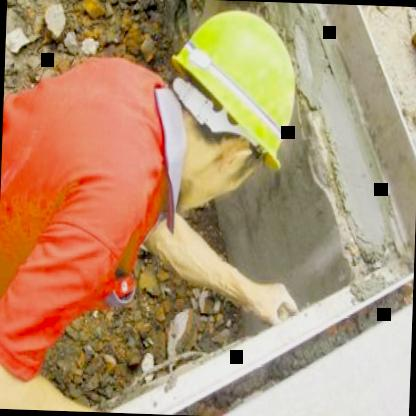helmet: (151, 0, 313, 218)
